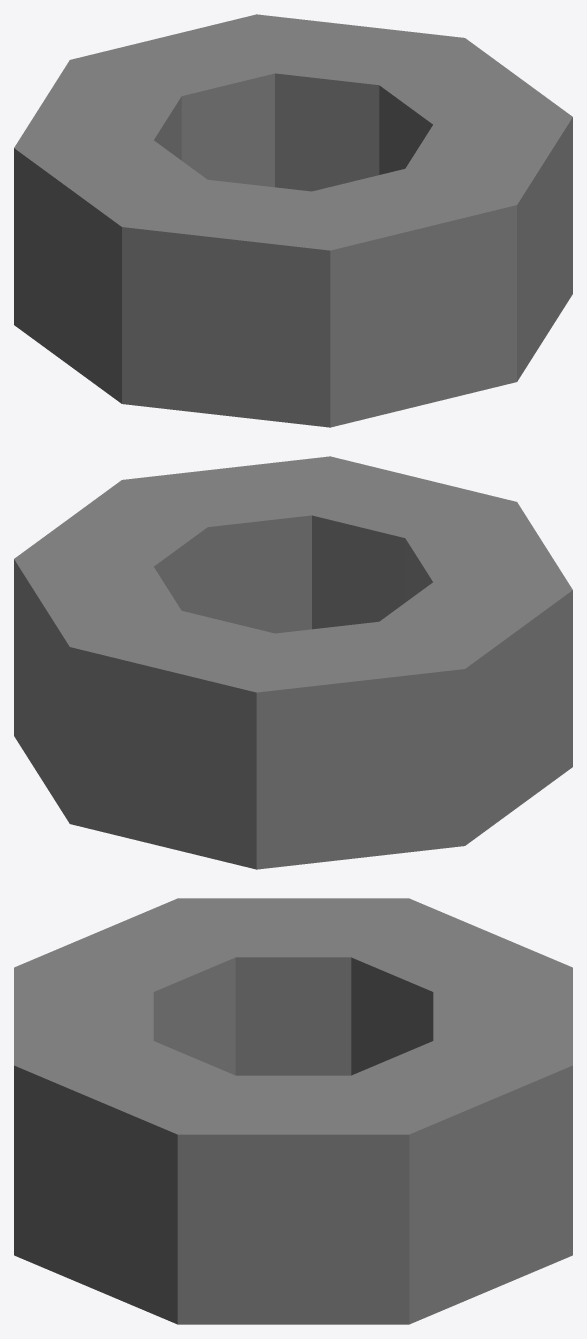
The model's file is nut.fbx.
3 renders of one model, top to bottom at view 1: azimuth 30°, elevation 25°; view 2: azimuth 150°, elevation 25°; view 3: azimuth 270°, elevation 25°, orthographic. The views are drawn at different scales.
Visible parts, largest first — view 1: cylinder; view 2: cylinder; view 3: cylinder.
Boxes of the visible parts, bbox=[...] form: cylinder: bbox=[14, 14, 572, 427]; cylinder: bbox=[14, 456, 572, 869]; cylinder: bbox=[14, 898, 572, 1324].
Size of the model in its own units: 50 by 18.75 by 50.
1 material, 1 textured.
